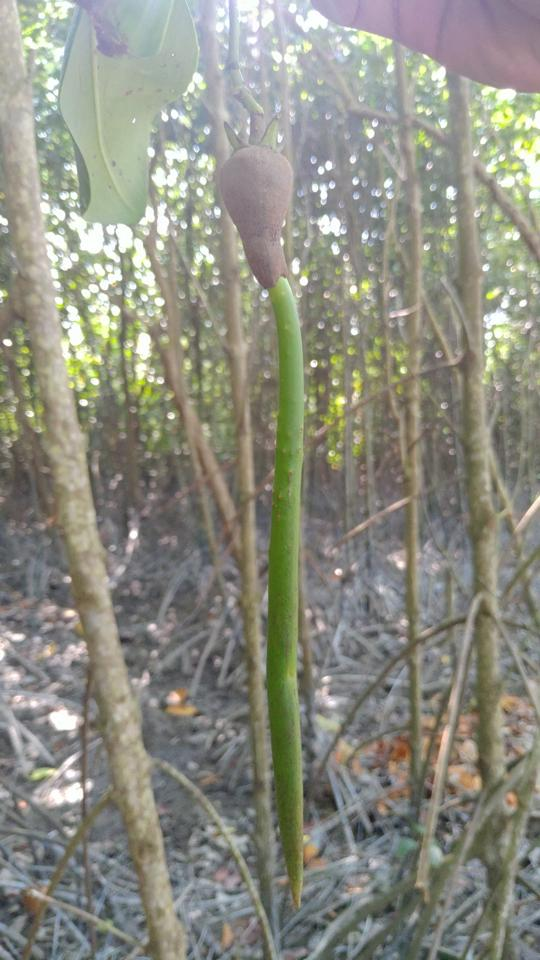mentah: (201, 101, 328, 918)
